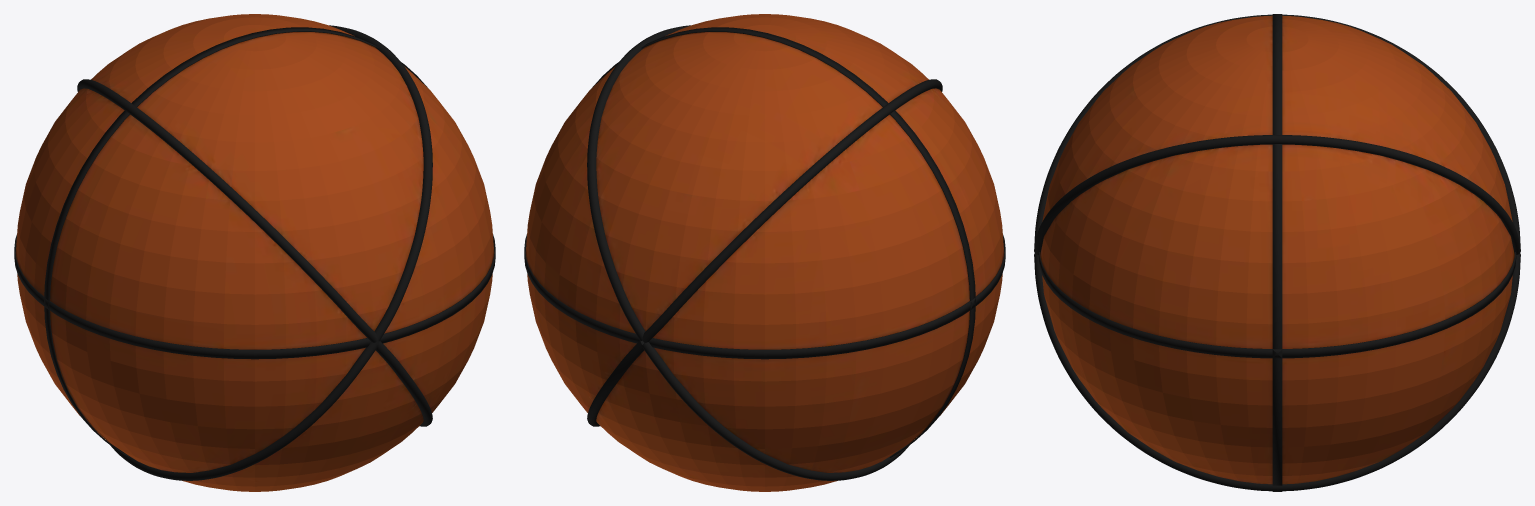
The model's file is basketball.glb.
The picture shows the model from 3 angles, left to right: view 1: azimuth 30°, elevation 25°; view 2: azimuth 150°, elevation 25°; view 3: azimuth 270°, elevation 25°; orthographic projection.
Parts seen in each view (by area): view 1: ball_basketball, ball_seam; view 2: ball_basketball, ball_seam; view 3: ball_basketball, ball_seam.
Boxes of the visible parts, left/top/right/bottom form: ball_basketball: left=15, top=14, right=494, bottom=491; ball_seam: left=14, top=25, right=495, bottom=480; ball_basketball: left=525, top=14, right=1004, bottom=491; ball_seam: left=524, top=25, right=1005, bottom=480; ball_basketball: left=1040, top=15, right=1514, bottom=484; ball_seam: left=1034, top=14, right=1520, bottom=491.
Size of the model in its own units: 0.2414 by 0.2414 by 0.2459.
Materials: 2 (1 with a texture image).
